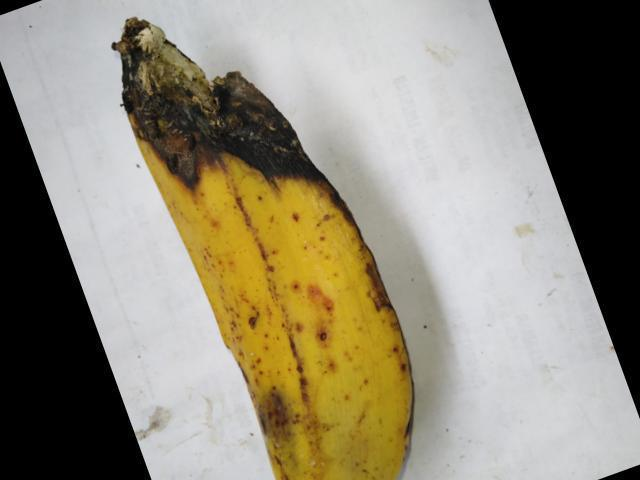rotten: (105, 8, 401, 239)
